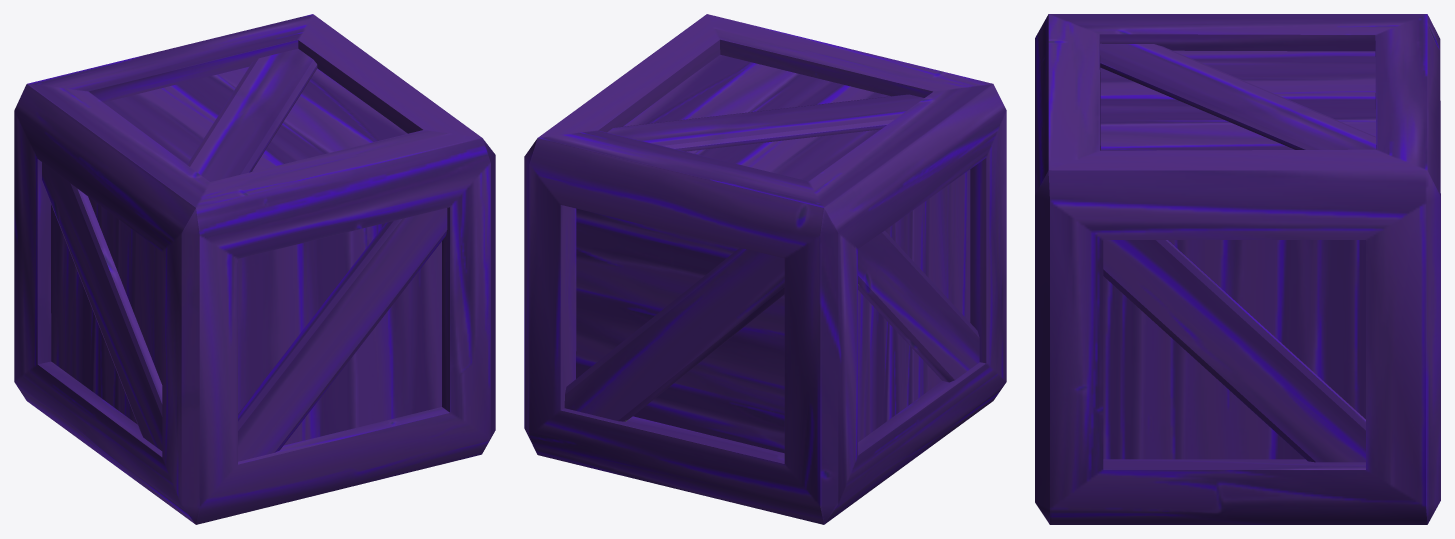
The model's file is Purple Crate.fbx.
3 renders of one model, left to right at view 1: azimuth 30°, elevation 25°; view 2: azimuth 150°, elevation 25°; view 3: azimuth 270°, elevation 25°, orthographic. The views are drawn at different scales.
Visible parts, largest first — view 1: pCube104; view 2: pCube104; view 3: pCube104.
Boxes of the visible parts, x1,y1,x2,y2 form: pCube104: (14,14,495,524); pCube104: (524,14,1006,524); pCube104: (1035,14,1440,524).
Bounding box in the file's own units: 51.38 × 49.56 × 51.38.
1 material, 1 textured.
